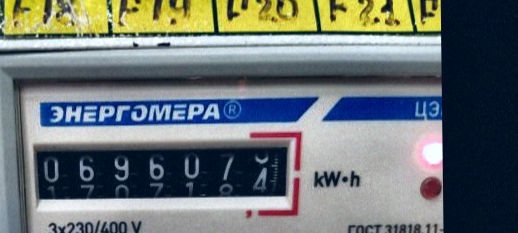0: (38, 153, 60, 184), (180, 151, 200, 180)
4: (248, 165, 267, 194)
6: (144, 151, 165, 182), (74, 153, 94, 182)
7: (215, 149, 234, 180)
9: (109, 152, 130, 182)
screen: (20, 124, 304, 220)
